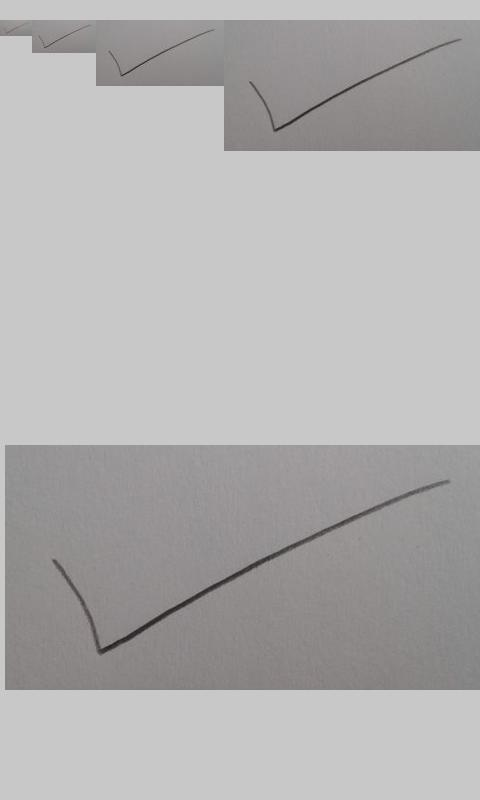check_box: (52, 481, 447, 656), (249, 39, 460, 132), (109, 29, 213, 77), (38, 24, 91, 48), (3, 22, 29, 34)
